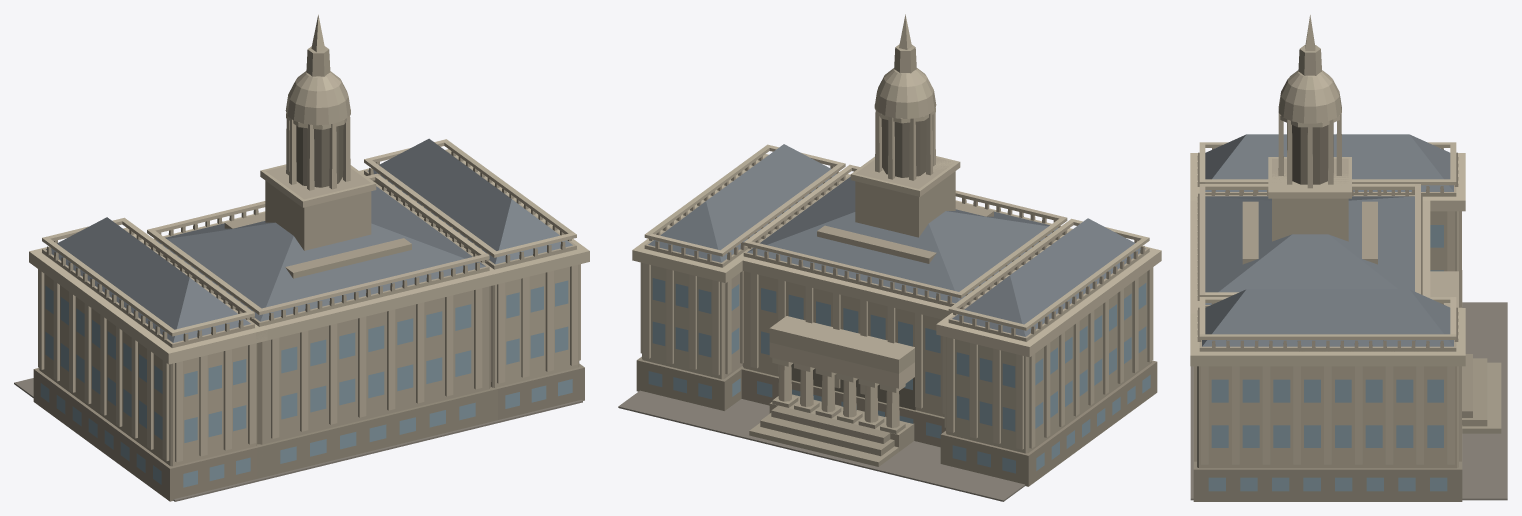
The picture shows the model from 3 angles, left to right: view 1: azimuth 30°, elevation 25°; view 2: azimuth 150°, elevation 25°; view 3: azimuth 270°, elevation 25°; orthographic projection. The views are drawn at different scales.
Visible parts, largest first — view 1: city-hall-lod0; view 2: city-hall-lod0; view 3: city-hall-lod0.
Boxes of the visible parts, left/top/right/bottom form: city-hall-lod0: left=14, top=14, right=589, bottom=501; city-hall-lod0: left=618, top=14, right=1161, bottom=501; city-hall-lod0: left=1190, top=15, right=1507, bottom=501.
Size of the model in its own units: 84.6 by 75.6 by 56.07.
